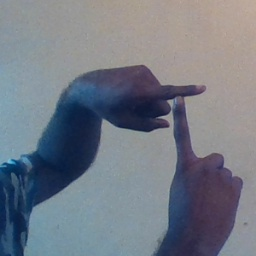T: (136, 69, 223, 177)
